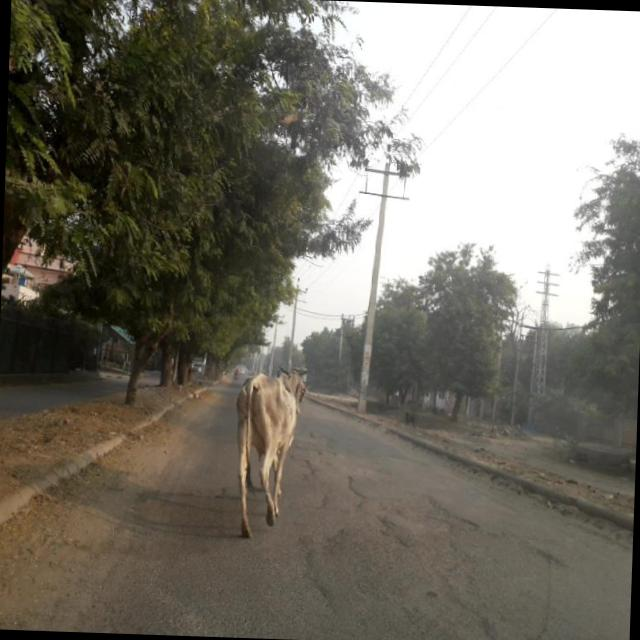pothole: (294, 446, 476, 544)
